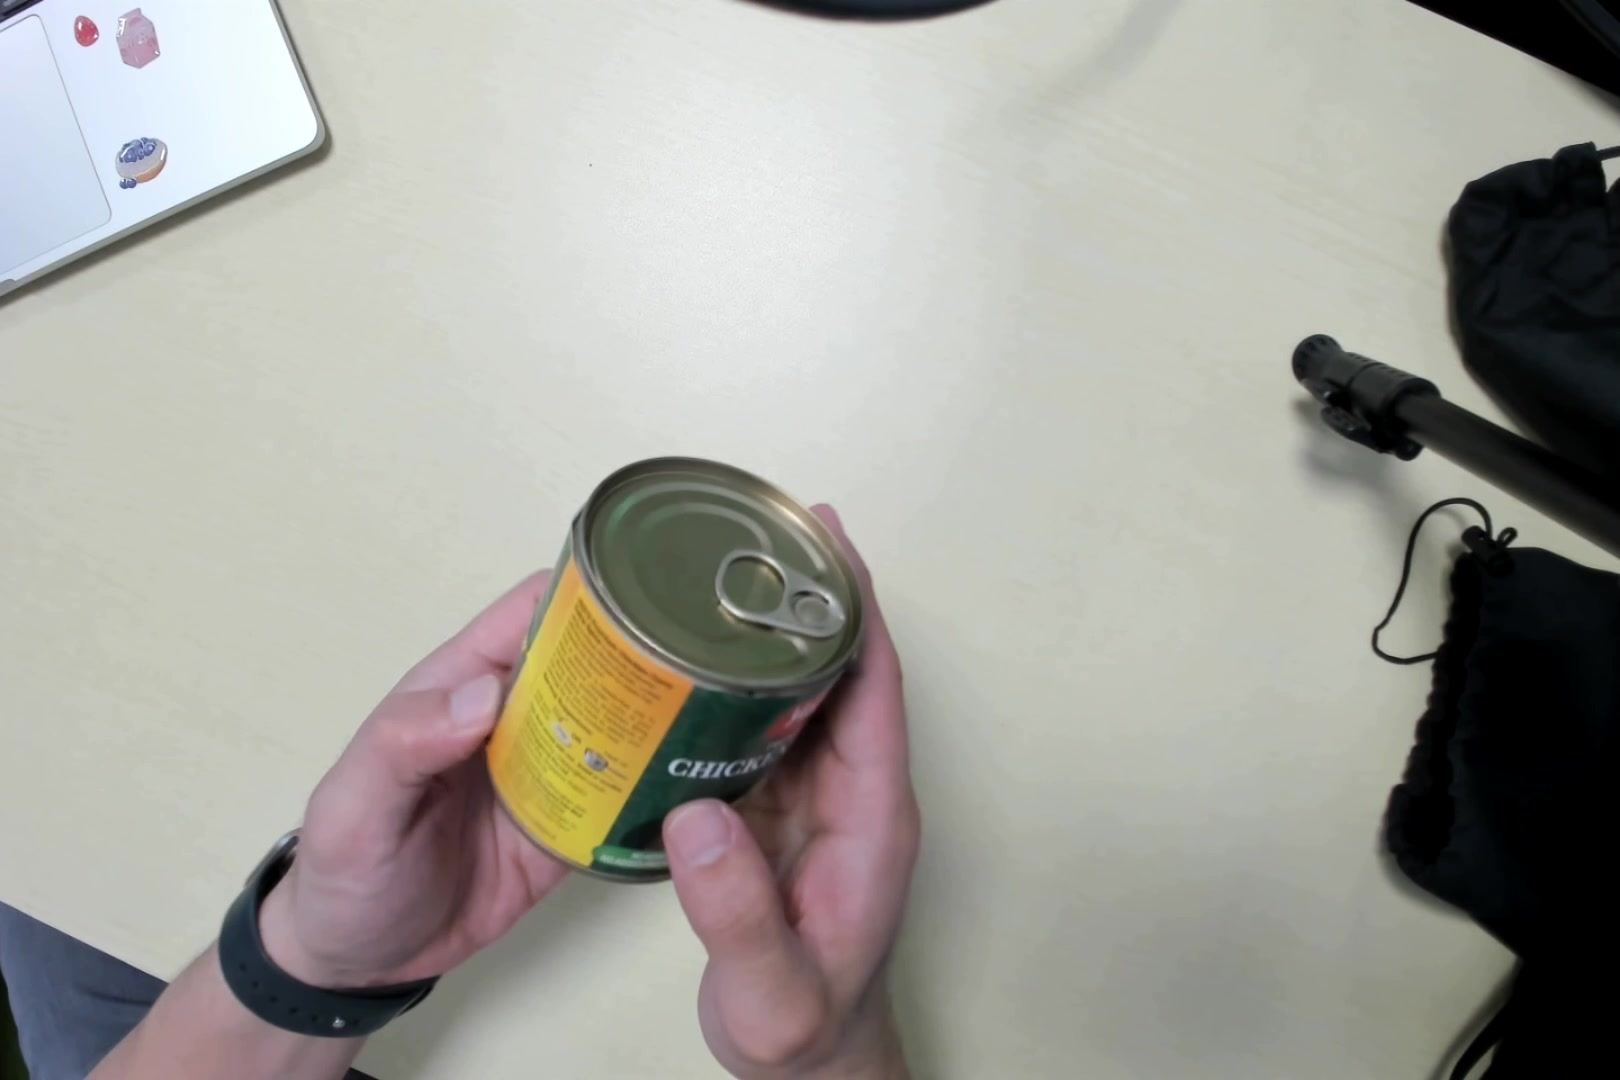CannedChicken_100-199g_Halal_NonHealthy: (489, 470, 856, 885)
